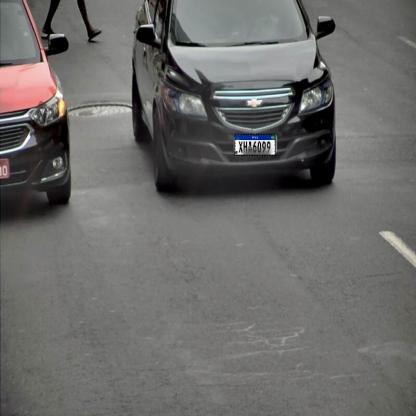PlacaM: (235, 134, 276, 156)
